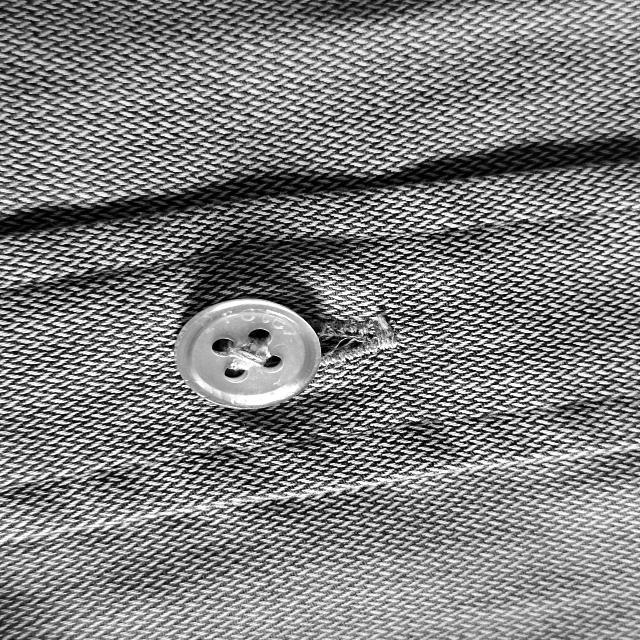Button_hike: (164, 291, 403, 409)
